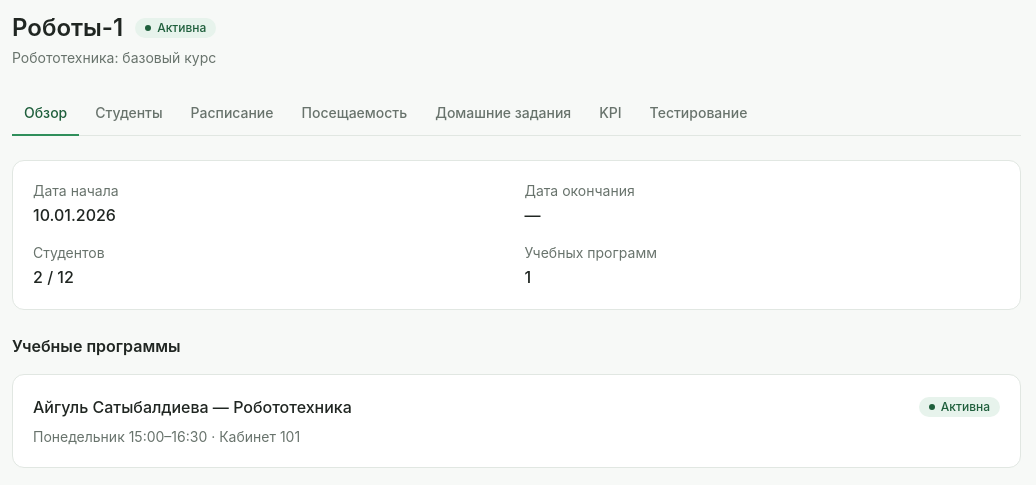
Scenario: GroupDetailPage › groups the schedule tab by weekday, not as a flat lesson list
Check: the heading "Роботы-1" is shown, box [12,12,123,44]
Click the tab "Расписание" at (232,114), box [179,92,286,136]
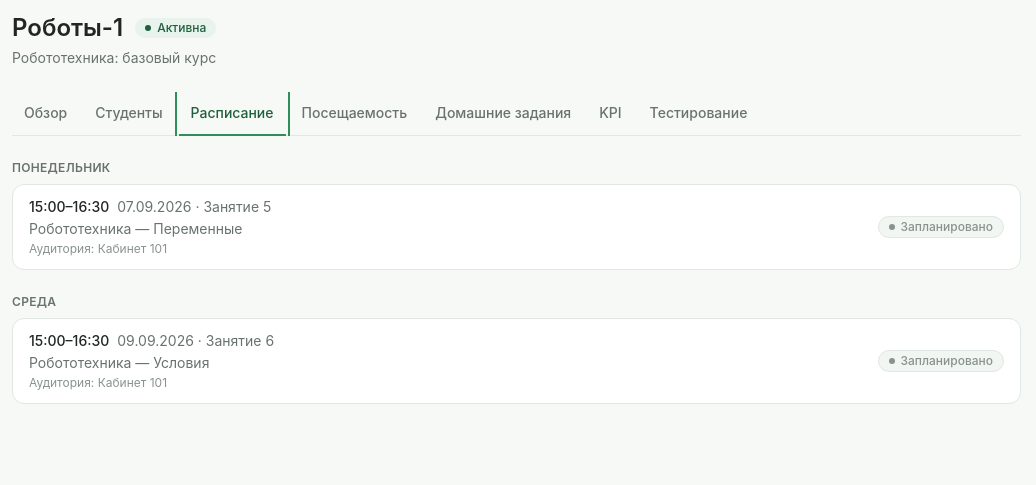
Check: the heading "Среда" is shown, box [12,294,56,309]
Check: the text "Занятие 5" is shown, box [117,198,271,215]
Check: the text "Занятие 6" is shown, box [117,332,274,349]
